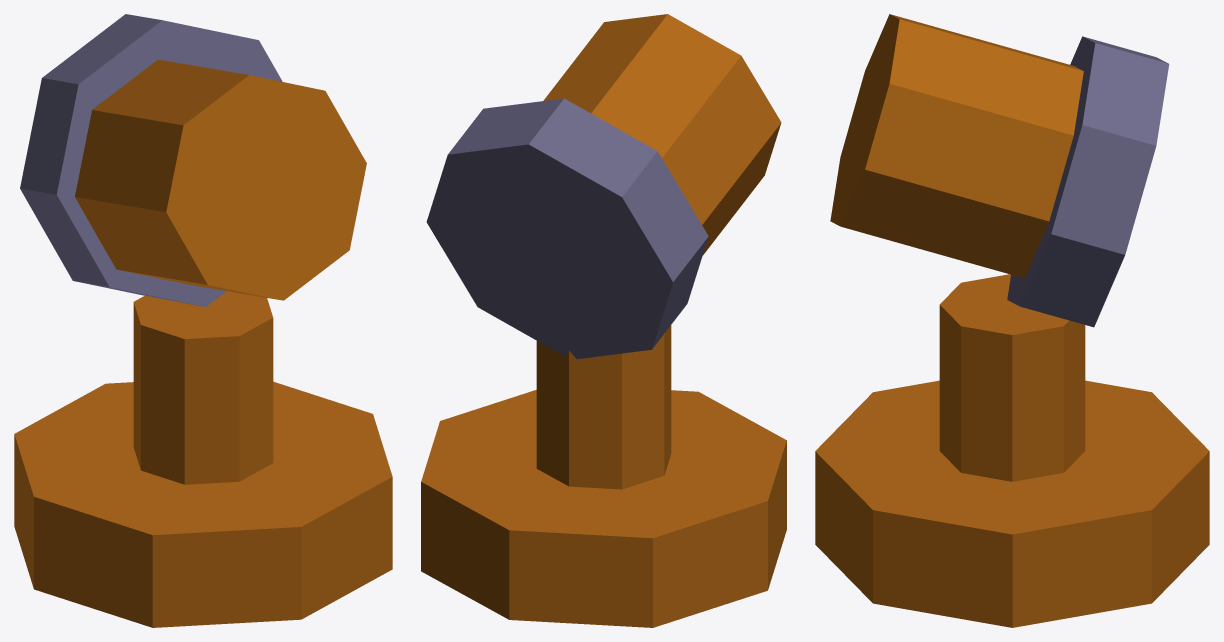
File: SM_Prototype _12.fbx
3 views of the same model, side by side, from view 1: azimuth 30°, elevation 25°; view 2: azimuth 150°, elevation 25°; view 3: azimuth 270°, elevation 25° (orthographic). The views are drawn at different scales.
Visible parts, largest first — view 1: SM_Prototype _12; view 2: SM_Prototype _12; view 3: SM_Prototype _12.
Boxes of the visible parts, x1=… form: SM_Prototype _12: x1=14, y1=14, x2=392, y2=627; SM_Prototype _12: x1=421, y1=14, x2=786, y2=627; SM_Prototype _12: x1=815, y1=14, x2=1209, y2=627.
Bounding box in the file's own units: 6.49 × 9.45 × 6.49.
